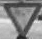Give way: (1, 0, 39, 36)
